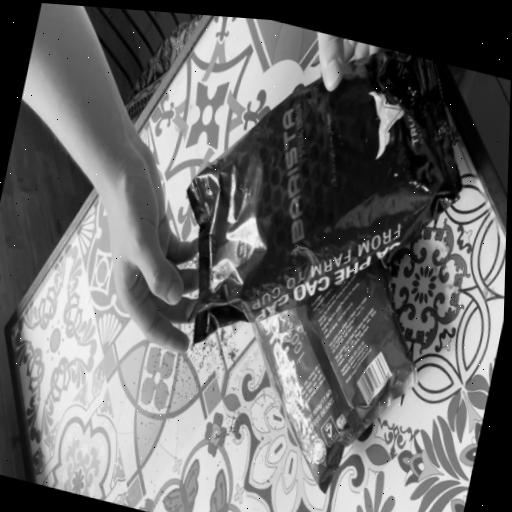cafe_hat: (187, 49, 461, 342)
cafe_xay: (253, 262, 417, 490)
